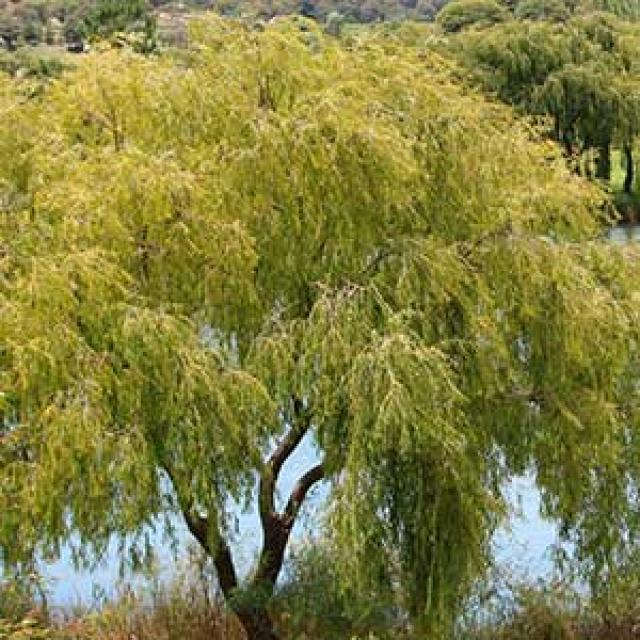cauce: (0, 30, 638, 640)
